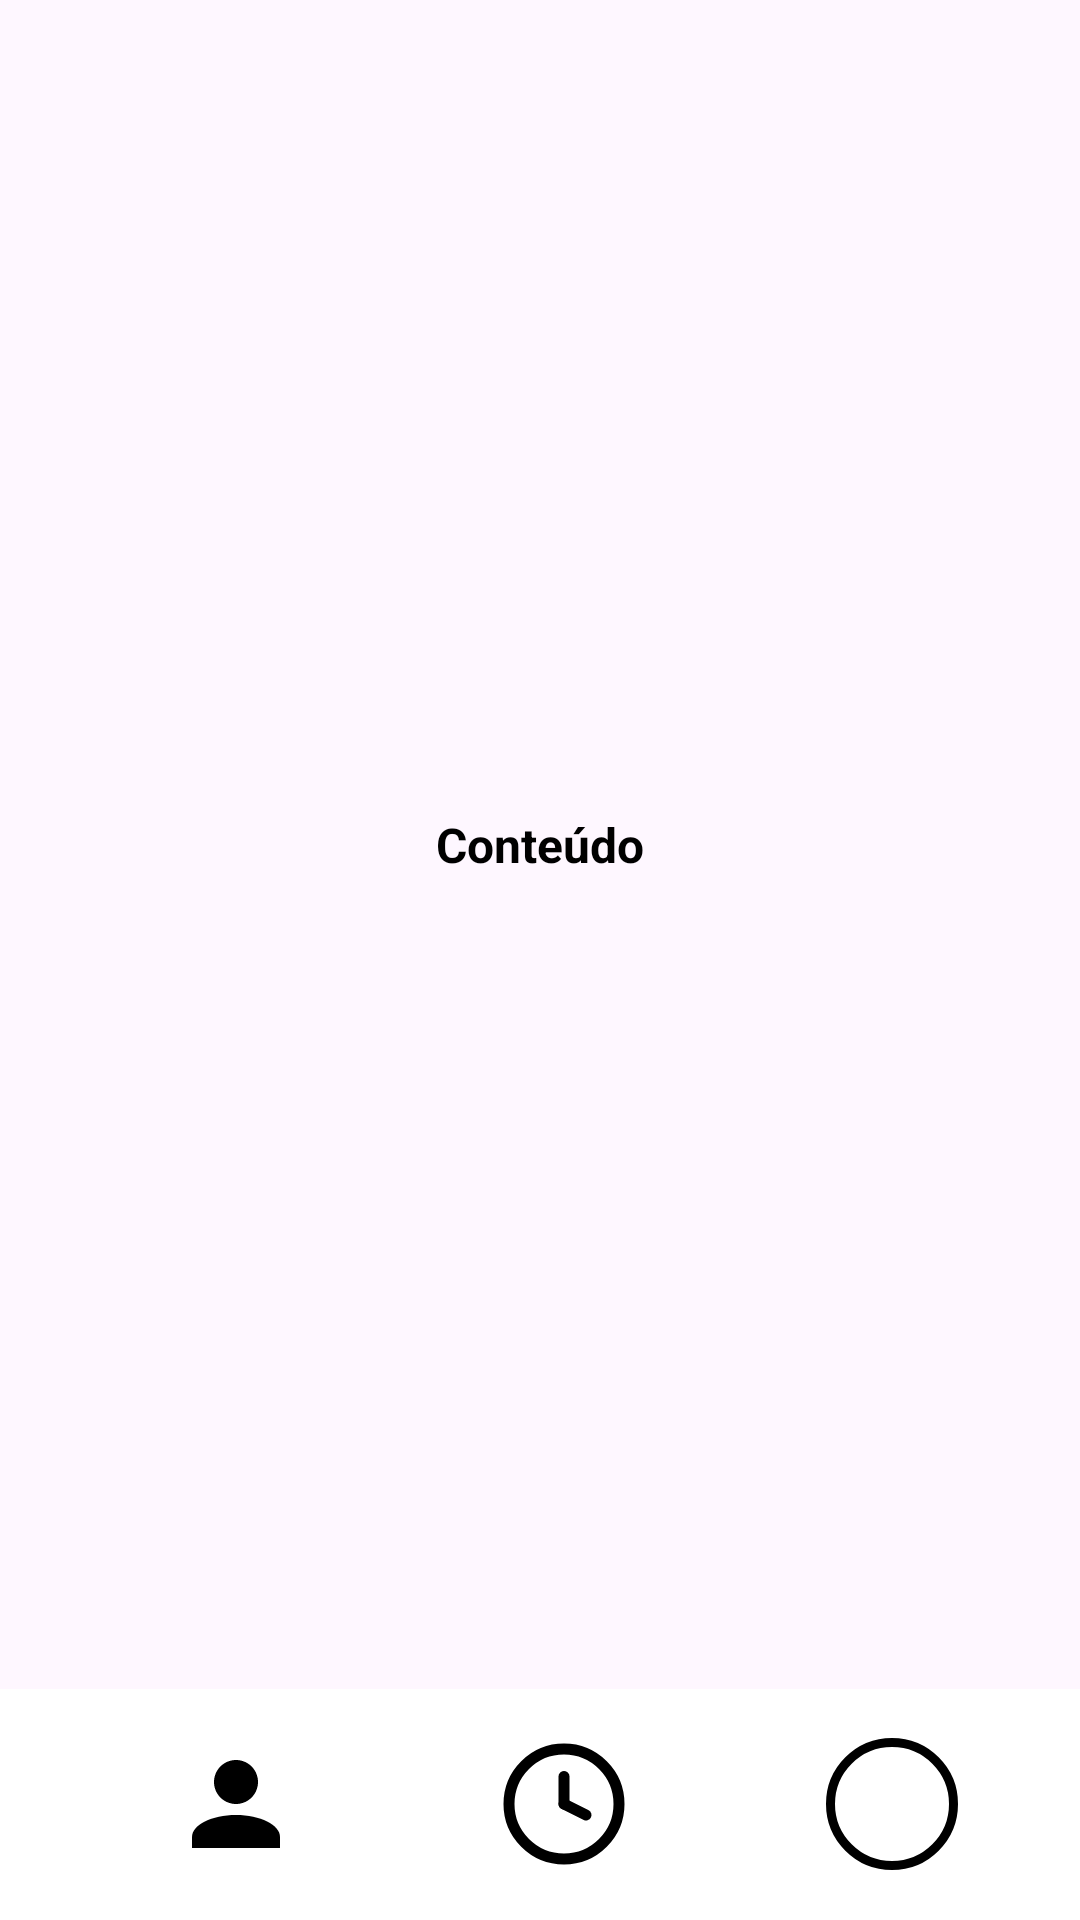

Icons on this 1080*1920 Android screen, each with the point to tap as [x,y]:
Historico: [564,1804]
Perfil: [236,1804]
